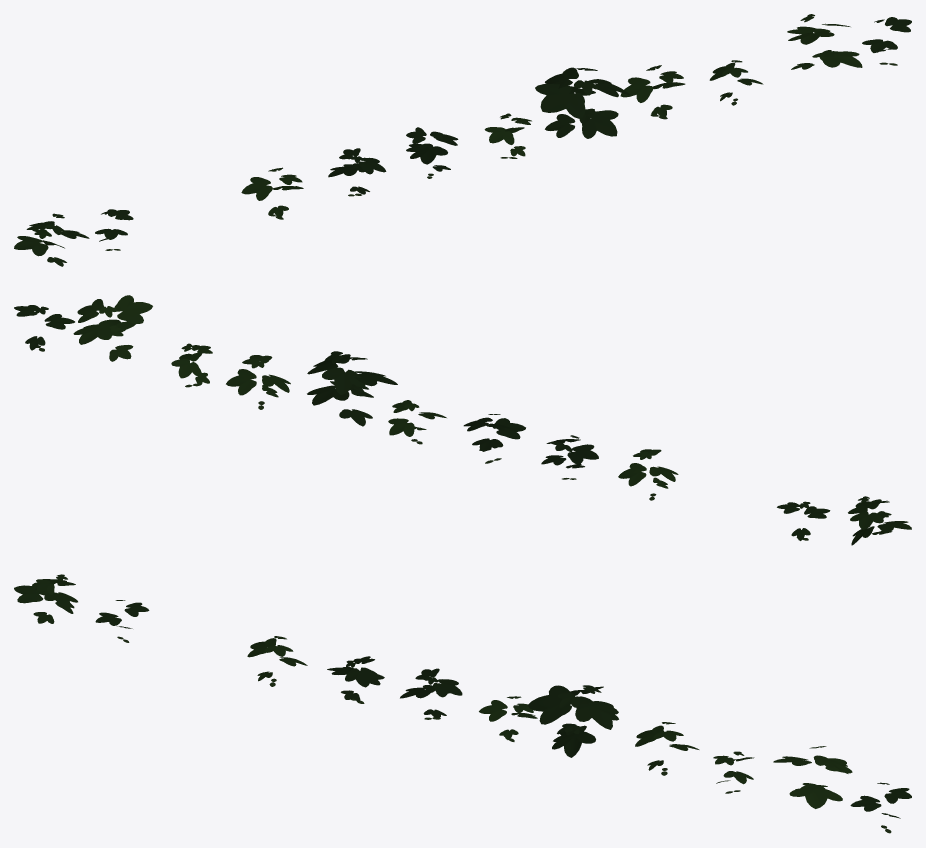
The model's file is ROW_03_SEG5_foliage.dae.
3 renders of one model, top to bottom at view 1: azimuth 30°, elevation 25°; view 2: azimuth 150°, elevation 25°; view 3: azimuth 330°, elevation 25°, orthographic.
Parts seen in each view (by area): view 1: ROW_03_SEG5_foliage; view 2: ROW_03_SEG5_foliage; view 3: ROW_03_SEG5_foliage.
Part boxes in pixels (<box>): ROW_03_SEG5_foliage: <box>14,14,911,266</box>; ROW_03_SEG5_foliage: <box>14,295,911,545</box>; ROW_03_SEG5_foliage: <box>14,574,911,833</box>.
Bounding box in the file's own units: 3.56 × 0.3234 × 0.2686.
